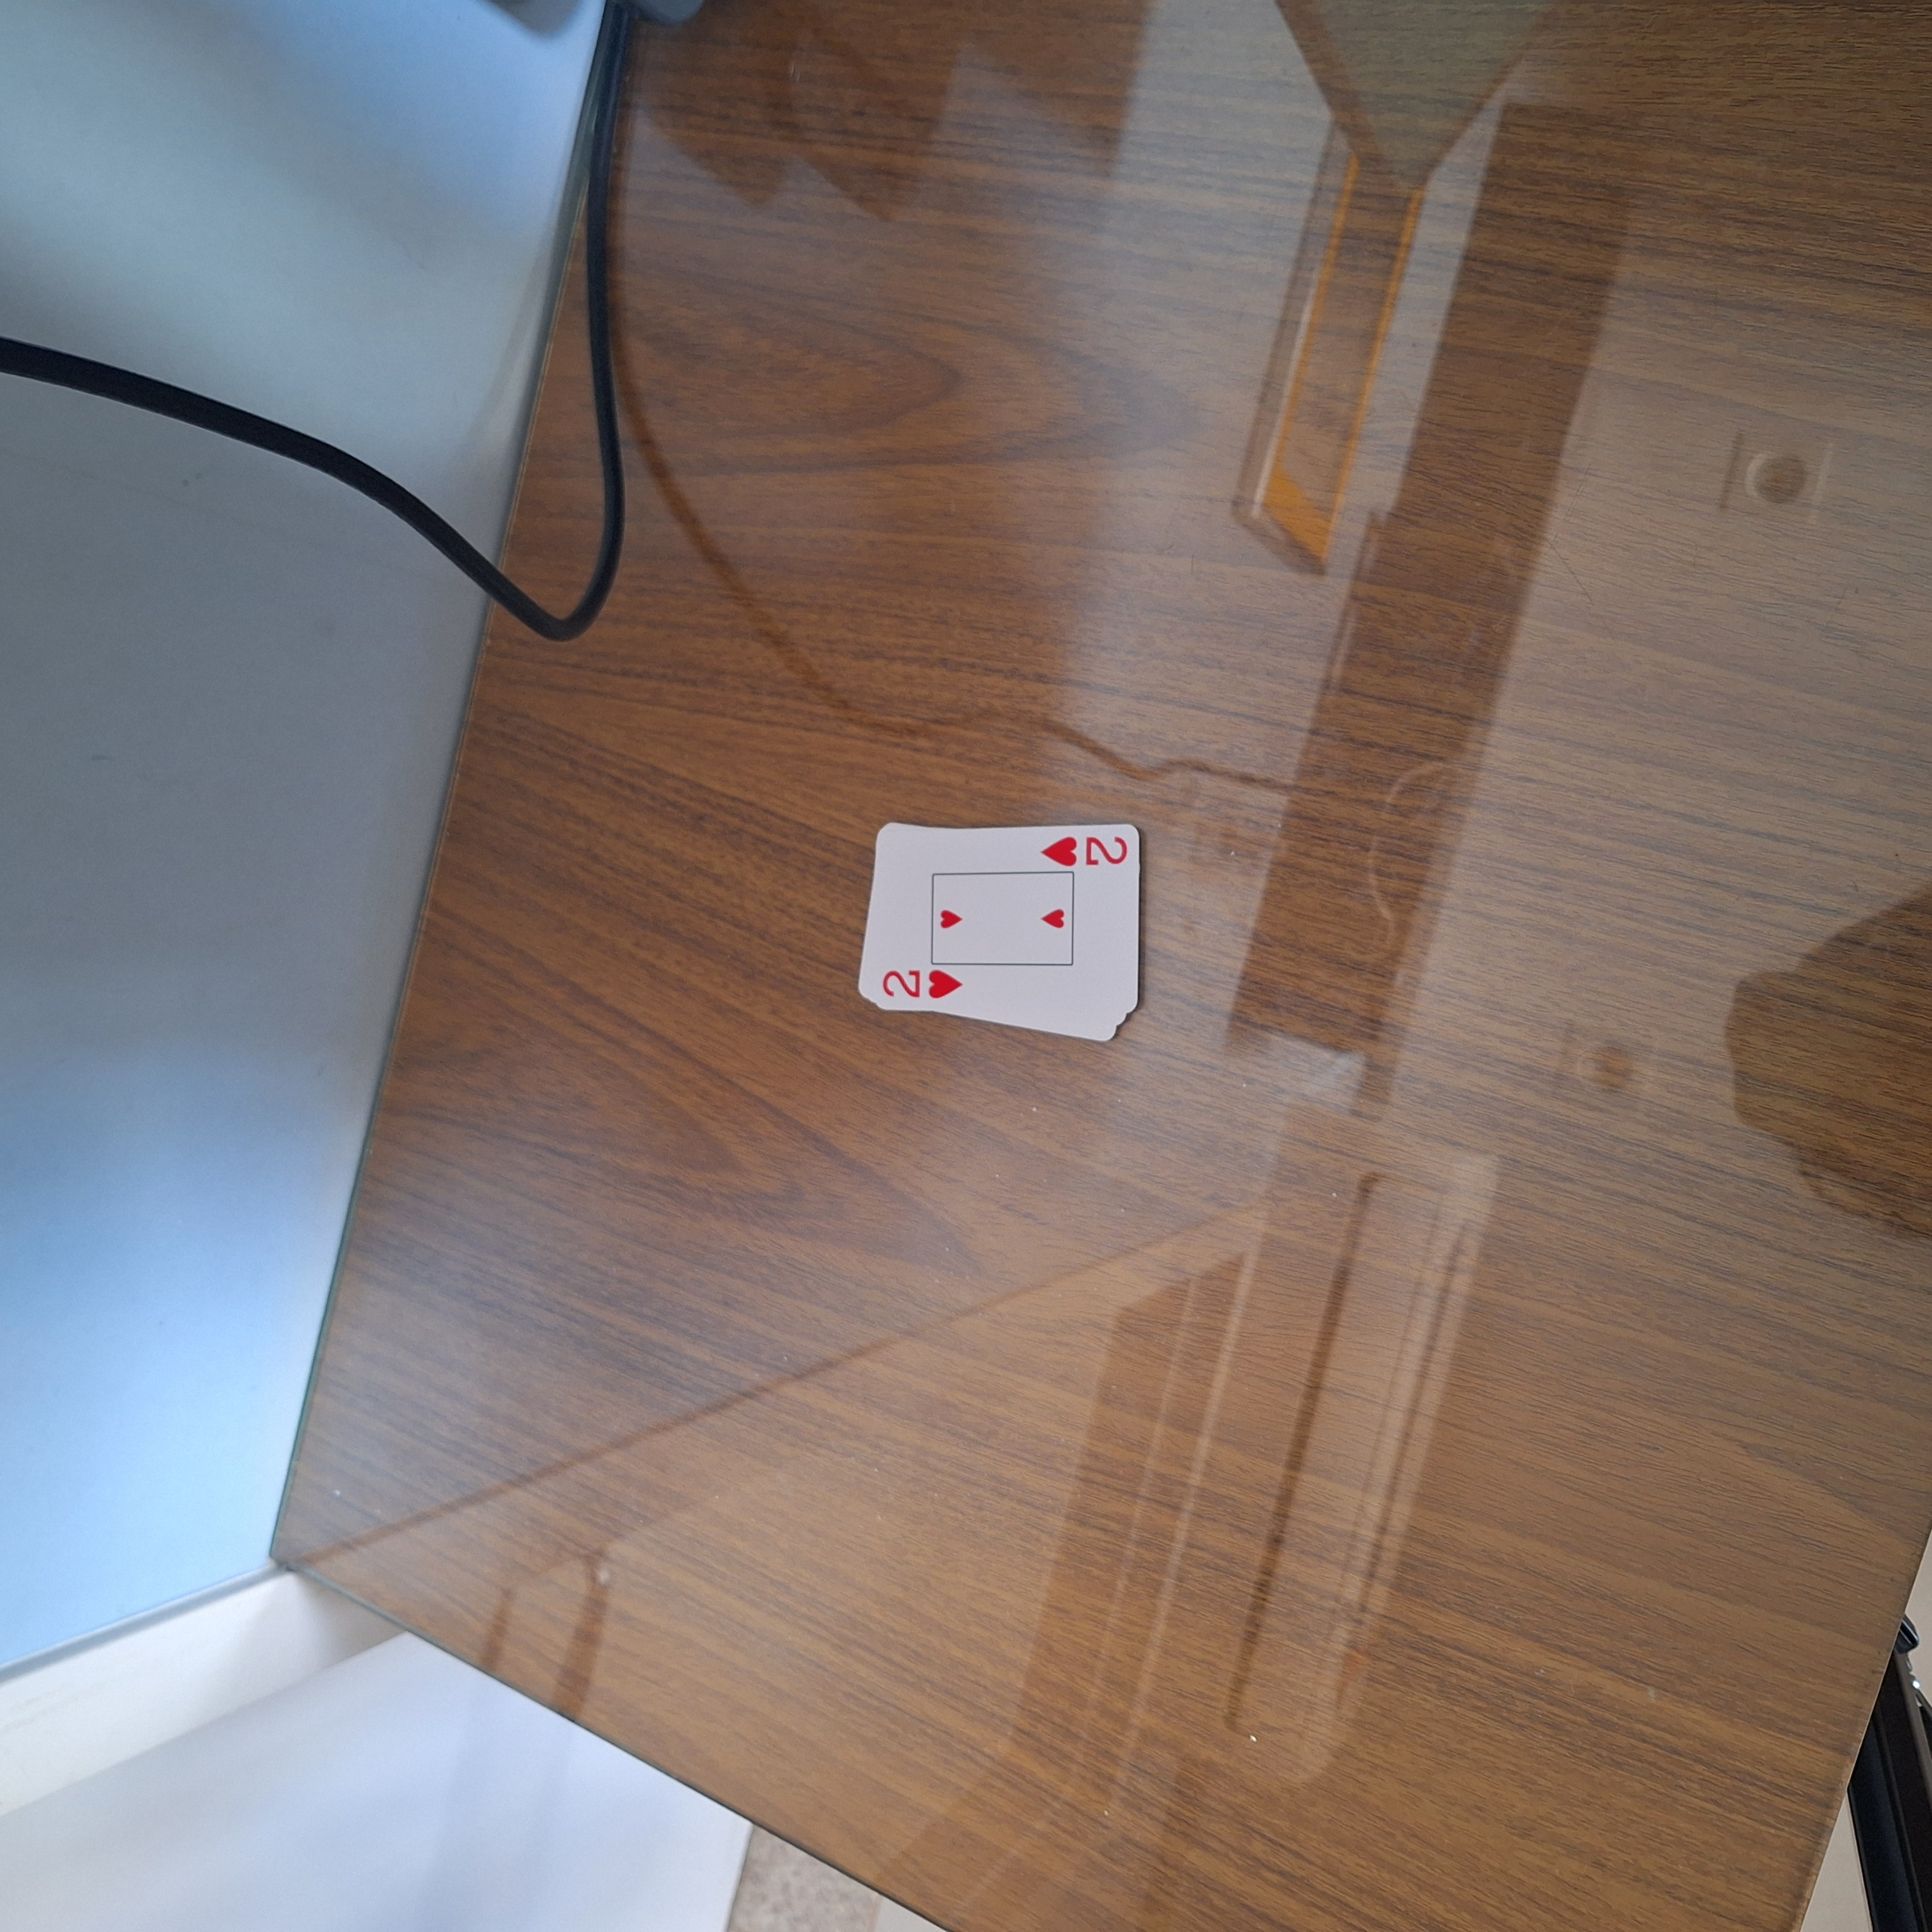2C: (1037, 826, 1132, 878), (870, 961, 971, 1007)
